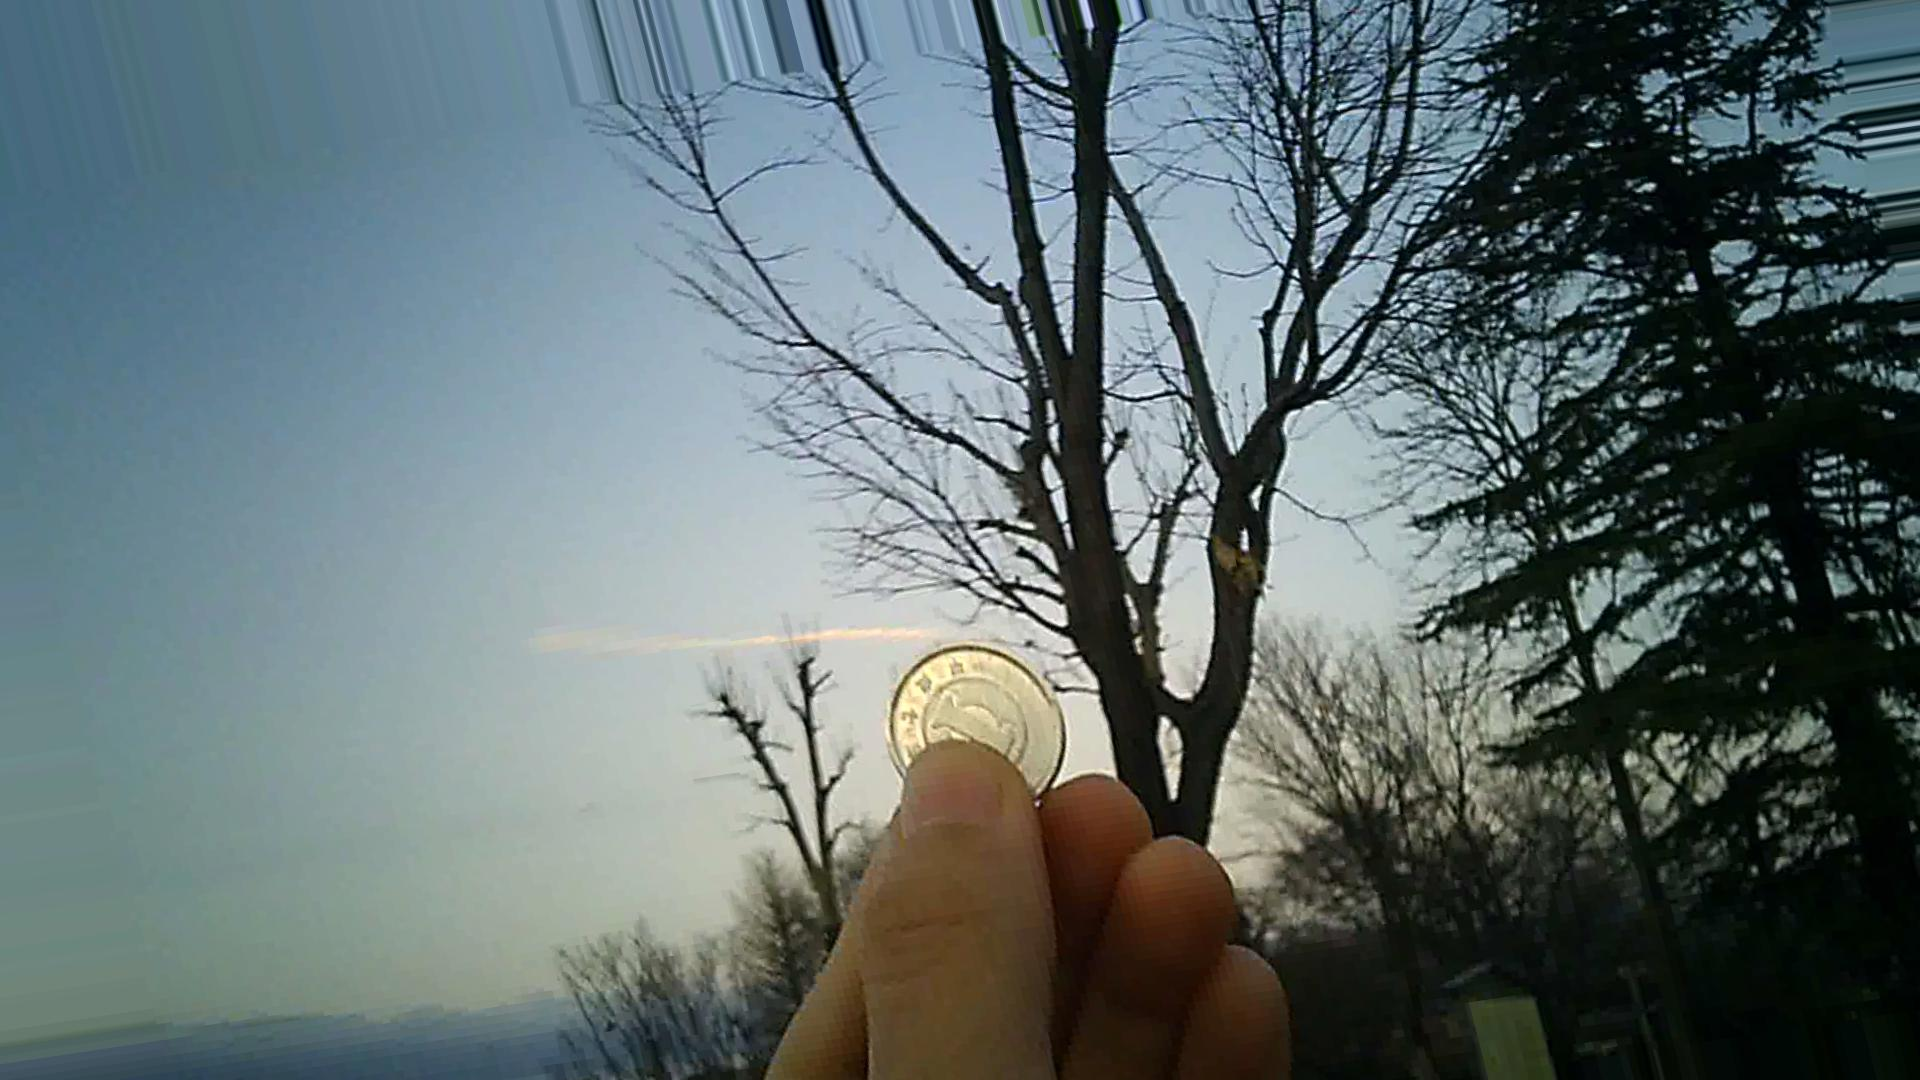1 Yen: (876, 640, 1092, 818)
